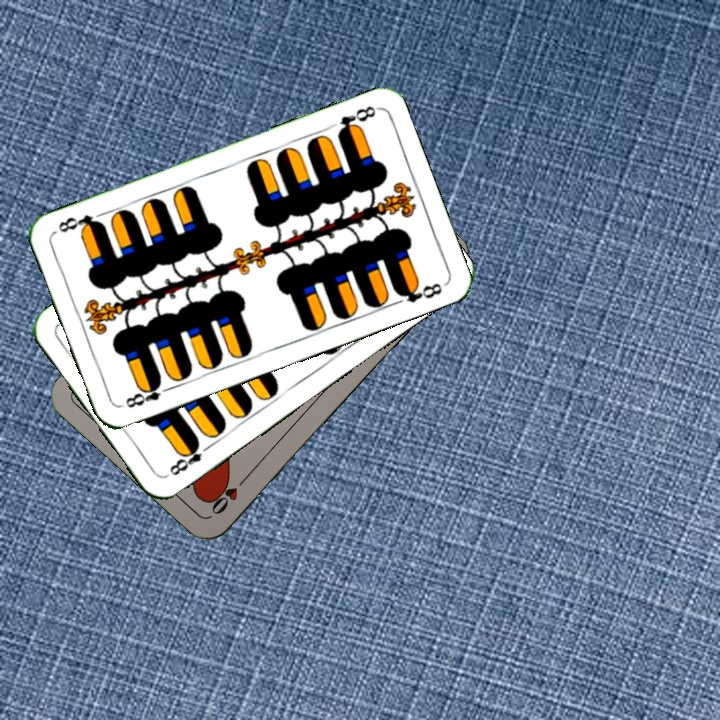E8: (165, 437, 215, 478), (121, 376, 175, 411), (333, 101, 380, 139)
HO: (207, 470, 252, 518)
